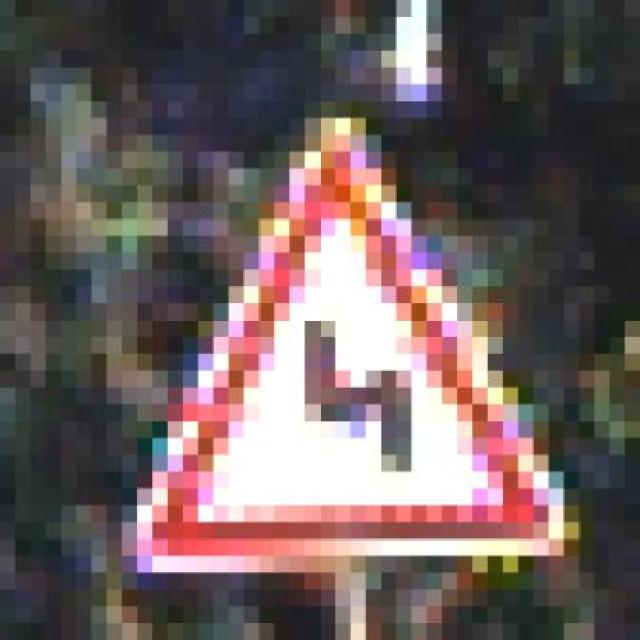Left Zig Zag Traffic: (139, 100, 581, 589)
